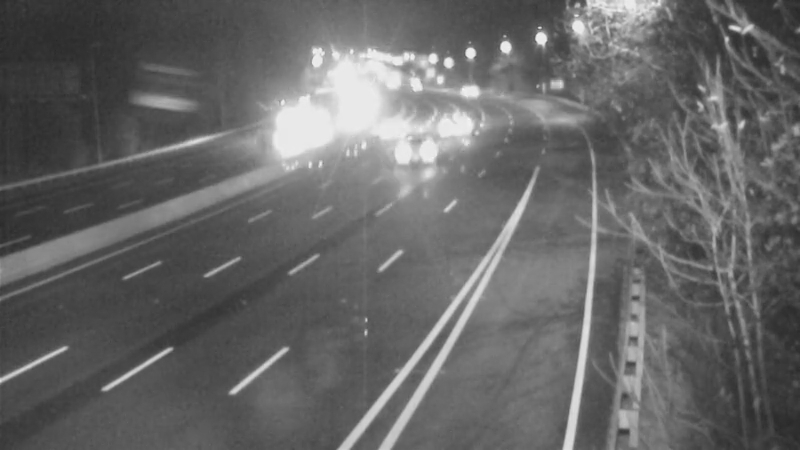vehicle: (385, 55, 435, 105), (366, 60, 416, 110), (383, 61, 433, 111), (444, 69, 494, 119), (431, 98, 481, 148), (370, 104, 420, 154), (397, 122, 447, 172), (263, 100, 313, 150), (325, 95, 375, 145)
